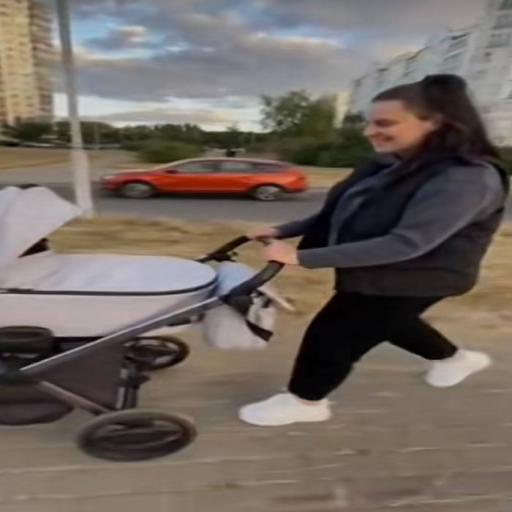bottle: (101, 158, 308, 201)
laptop: (239, 75, 509, 426)
phone: (56, 0, 95, 218)
shelf: (0, 335, 511, 511)
steps_down: (0, 187, 292, 461)
